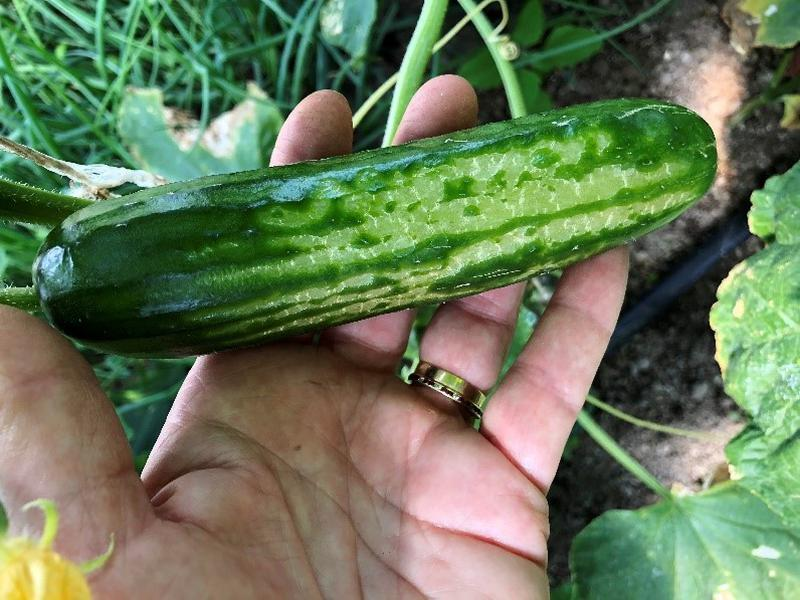Thrips: (21, 85, 739, 354)
